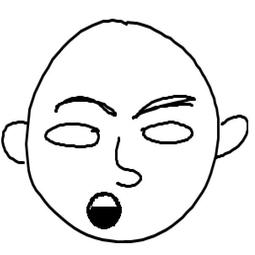ear: (217, 101, 251, 163), (1, 115, 29, 168)
empty_eye: (36, 120, 103, 152), (139, 120, 200, 145)
eyebrow: (46, 94, 121, 120), (133, 92, 194, 119)
nose: (105, 135, 144, 189)
open_mouth: (82, 188, 123, 231)
